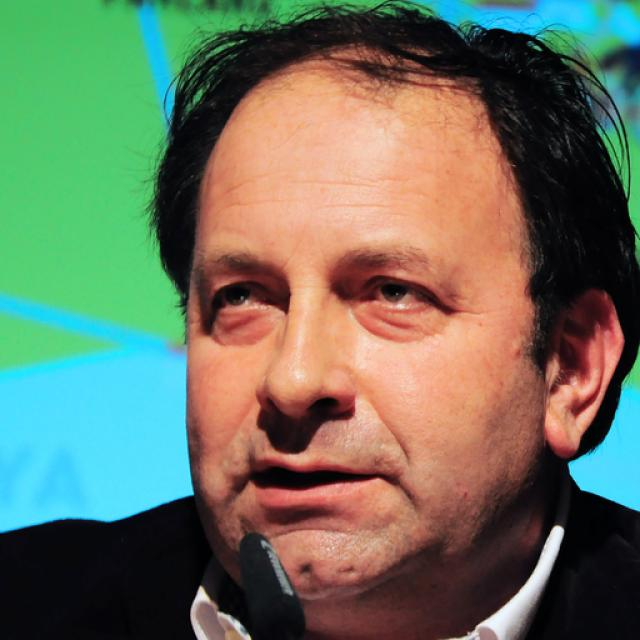Acne: (502, 340, 528, 364)
Wrinkle: (372, 399, 415, 465), (296, 174, 384, 191), (220, 195, 299, 211), (316, 200, 396, 211), (403, 478, 420, 507)
